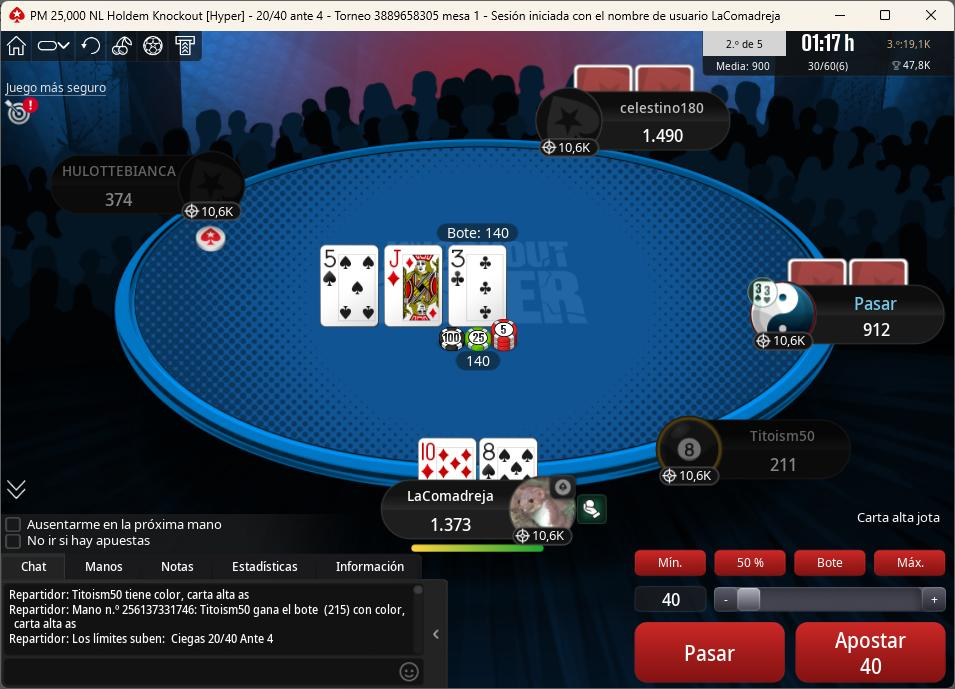ButtonCheck: (630, 618, 788, 688)
ButtonMaxRaise: (873, 544, 949, 579)
ButtonMinRaise: (633, 547, 711, 580)
ButtonPotRaise: (790, 545, 869, 580)
ButtonRaise: (792, 621, 953, 689)
Dealer: (192, 223, 233, 255)
HiddenCards: (575, 67, 701, 95), (786, 259, 913, 286)
Player: (745, 284, 951, 353), (657, 420, 857, 488), (544, 90, 734, 159), (50, 151, 247, 215)
PlayerChips: (632, 125, 693, 144), (762, 453, 809, 476), (95, 191, 140, 211), (856, 322, 899, 342)
Pot: (433, 223, 521, 243)
PrincipalCards: (413, 438, 543, 484)
PrincipalCards1: (418, 437, 477, 483)
PrincipalCards2: (478, 438, 539, 481)
PrincipalPlayer: (380, 474, 583, 551)
PrincipalPlayerChips: (421, 517, 482, 537)
ShowedCards: (319, 241, 509, 330)
ShowedCards1: (319, 244, 381, 328)
ShowedCards2: (382, 242, 444, 327)
ShowedCards3: (445, 243, 508, 327)
SmallBigBlind: (247, 5, 336, 29)
TablePot: (434, 321, 540, 381)
